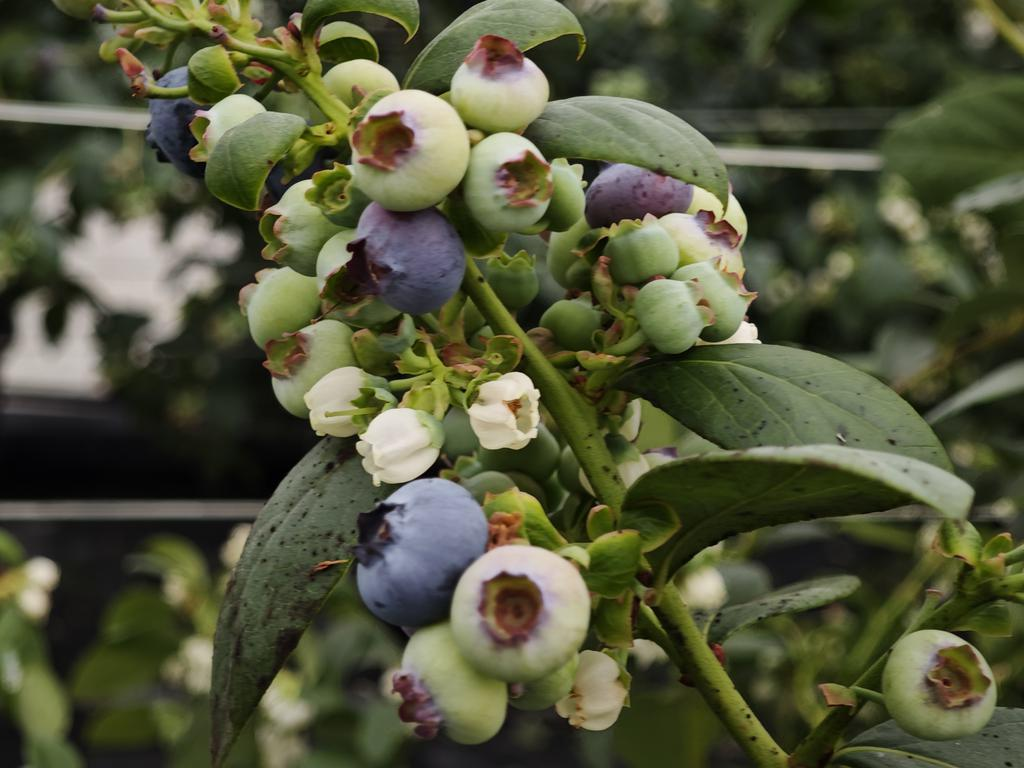RipeBlueBerry: (353, 479, 490, 626), (355, 205, 465, 315), (147, 68, 221, 170)
Semi-RipeBlueBerry: (585, 161, 703, 224)
UnripeBlueBerry: (452, 547, 596, 681), (351, 86, 472, 213), (394, 625, 508, 747), (880, 628, 996, 741), (470, 131, 552, 230)
